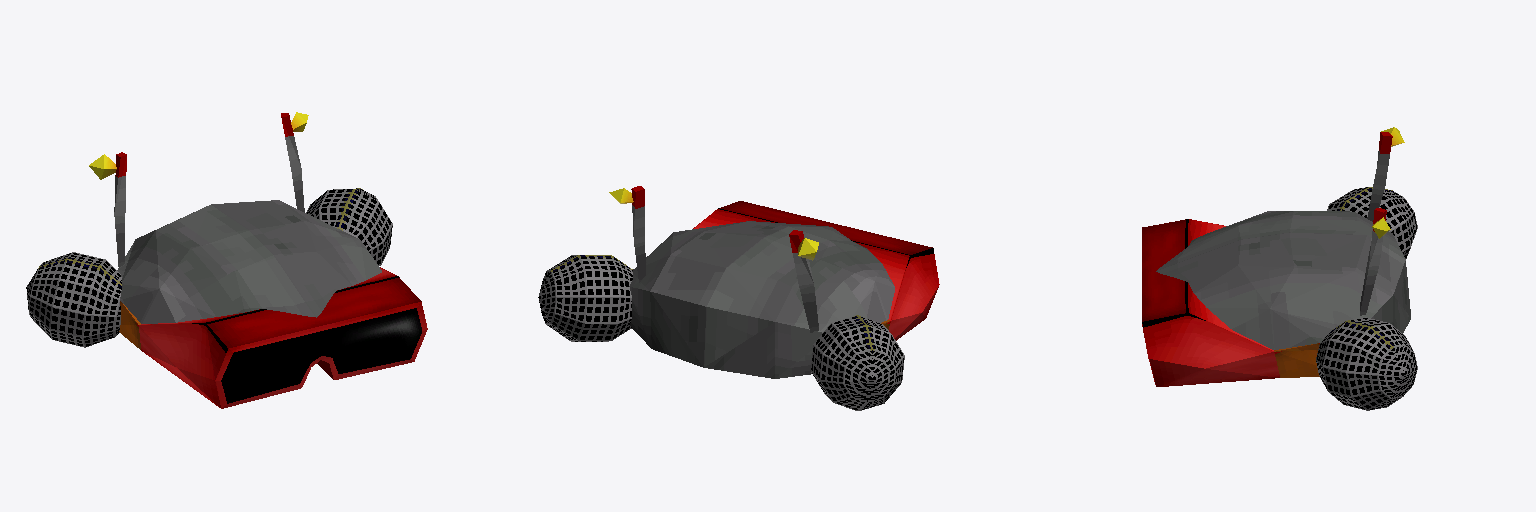
3 renders of one model, left to right at view 1: azimuth 30°, elevation 25°; view 2: azimuth 150°, elevation 25°; view 3: azimuth 270°, elevation 25°, orthographic.
Visible parts, largest first — view 1: VR_Headset; view 2: VR_Headset; view 3: VR_Headset.
Boxes of the visible parts, box(x1,y1,x2,y2) form: VR_Headset: box(26, 112, 427, 408); VR_Headset: box(538, 186, 939, 410); VR_Headset: box(1142, 127, 1417, 410).
Size of the model in its own units: 7.07 by 3.27 by 4.78.
Materials: 1 (1 with a texture image).